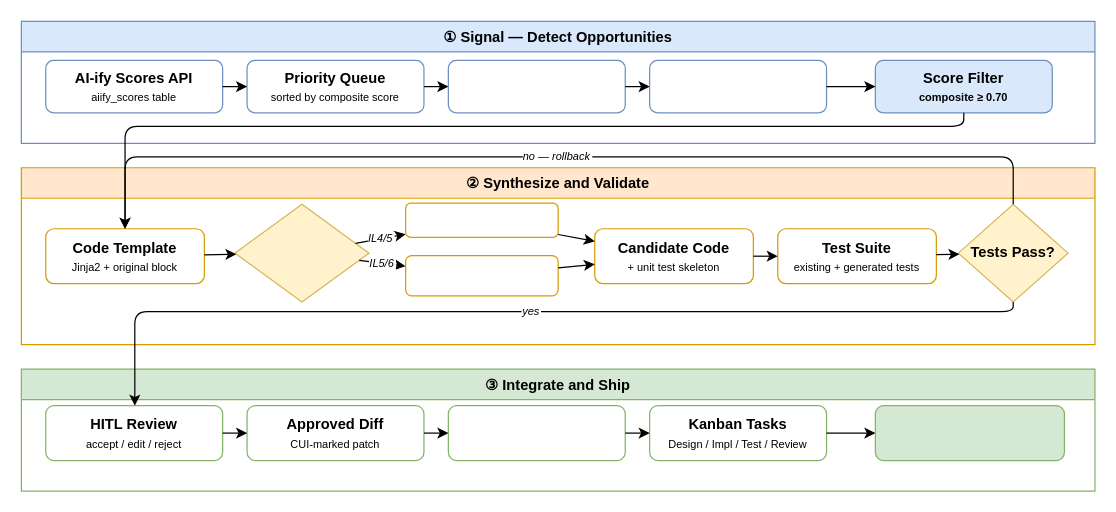
Image size: 1116x512. Some labels were removed from this diagram. The shapes that lost their labels are listed below. From the top down, each one's centre as x and y in pixels, then its label:
the point at 536,86: SHA-256 Dedup file + pattern + line
the point at 737,86: Pattern Router 8 pattern types
the point at 481,219: Bedrock IL4 / IL5 GovCloud
the point at 301,252: IL Level?
the point at 481,275: Ollama IL5 / IL6 Air-Gap
the point at 536,432: Git PR branch + review request
the point at 969,432: ATO Evidence NIST AI RMF MANAGE-1
